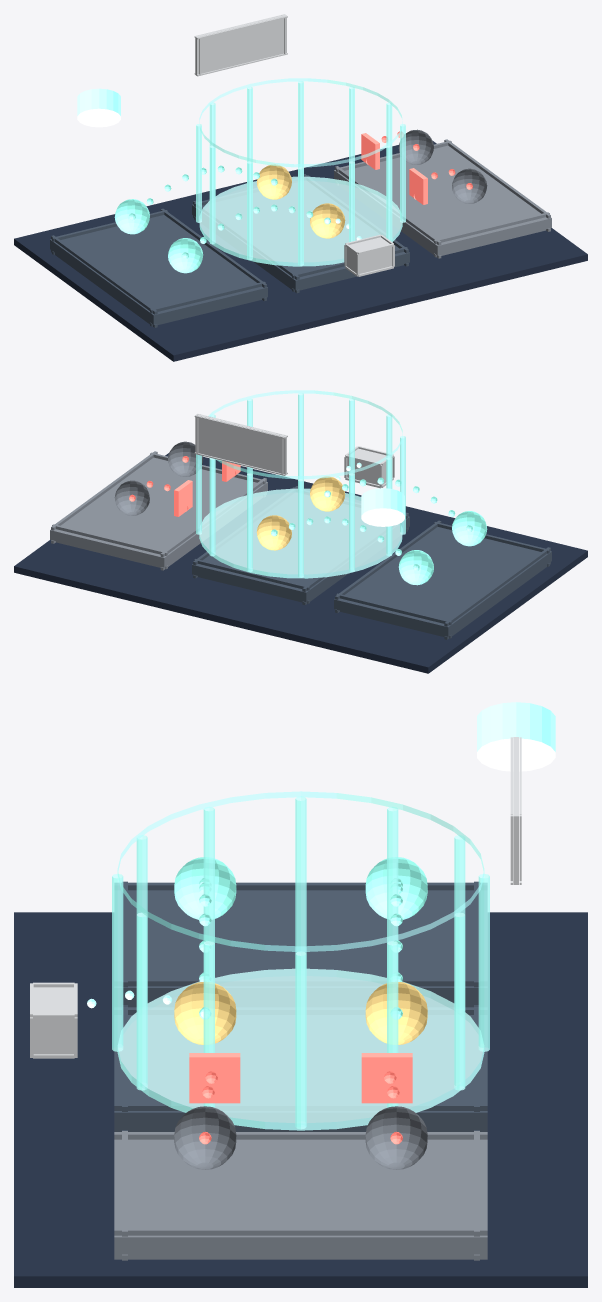
The model's file is network-policy-isolation.glb.
The picture shows the model from 3 angles, top to bottom: view 1: azimuth 30°, elevation 25°; view 2: azimuth 150°, elevation 25°; view 3: azimuth 270°, elevation 25°; orthographic projection. The views are drawn at different scales.
Visible parts, largest first — view 1: netpol-floor, ns-frontend, netpol-shield-ring, ns-untrusted, ns-backend, netpol-manifest, kube-dns, cni-enforcer, netpol-shield-crown, pod-frontend-0, pod-untrusted-1, pod-frontend-1 (+17 smaller); view 2: netpol-floor, ns-frontend, netpol-shield-ring, ns-untrusted, ns-backend, netpol-manifest, cni-enforcer, kube-dns, netpol-shield-crown, pod-untrusted-0, pod-frontend-1, pod-frontend-0 (+15 smaller); view 3: netpol-floor, ns-untrusted, ns-frontend, netpol-shield-ring, ns-backend, cni-enforcer, netpol-shield-crown, kube-dns, pod-untrusted-0, pod-untrusted-1, pod-backend-0, pod-backend-1 (+18 smaller).
Boxes of the visible parts, x1,y1,x2,y2 form: netpol-floor: [14, 141, 587, 361]; ns-frontend: [50, 208, 267, 327]; netpol-shield-ring: [199, 176, 402, 266]; ns-untrusted: [334, 139, 551, 258]; ns-backend: [192, 174, 409, 293]; netpol-manifest: [194, 14, 287, 76]; kube-dns: [344, 234, 394, 276]; cni-enforcer: [77, 88, 120, 127]; netpol-shield-crown: [199, 78, 402, 167]; pod-frontend-0: [114, 199, 149, 234]; pod-untrusted-1: [452, 168, 487, 203]; pod-frontend-1: [168, 238, 203, 273]; netpol-floor: [14, 452, 587, 673]; ns-frontend: [334, 520, 551, 639]; netpol-shield-ring: [199, 488, 402, 578]; ns-untrusted: [50, 451, 267, 570]; ns-backend: [192, 486, 409, 604]; netpol-manifest: [194, 413, 287, 475]; cni-enforcer: [361, 488, 404, 526]; kube-dns: [344, 446, 394, 488]; netpol-shield-crown: [208, 390, 402, 479]; pod-untrusted-0: [114, 480, 149, 515]; pod-frontend-1: [452, 511, 487, 546]; pod-frontend-0: [398, 550, 433, 585]; netpol-floor: [14, 912, 587, 1287]; ns-untrusted: [114, 1131, 487, 1260]; ns-frontend: [115, 881, 486, 1007]; netpol-shield-ring: [117, 968, 484, 1130]; ns-backend: [114, 1006, 487, 1131]; cni-enforcer: [477, 702, 555, 771]; netpol-shield-crown: [117, 791, 484, 952]; kube-dns: [30, 982, 77, 1058]; pod-untrusted-0: [365, 1106, 427, 1169]; pod-untrusted-1: [174, 1106, 236, 1169]; pod-backend-0: [365, 982, 427, 1044]; pod-backend-1: [174, 982, 236, 1044].
Size of what is drawn, in the model's own units: 5.4 by 2.28 by 3.6.
